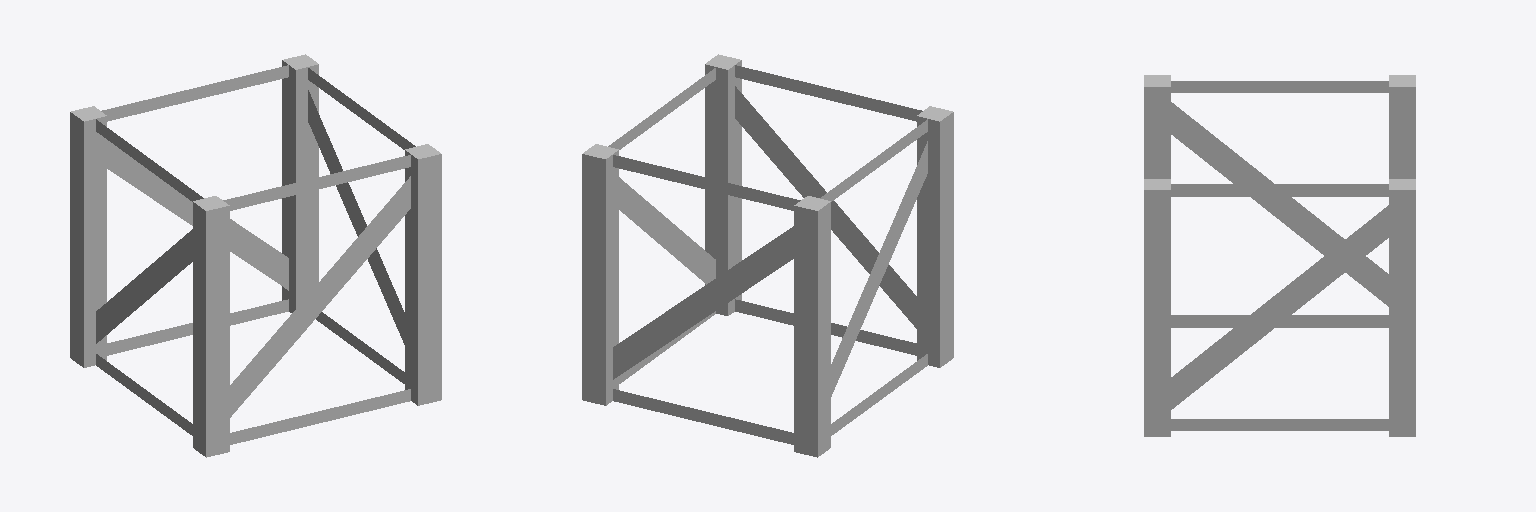
Rendered from structure-cross.obj.
3 renders of one model, left to right at view 1: azimuth 30°, elevation 25°; view 2: azimuth 150°, elevation 25°; view 3: azimuth 270°, elevation 25°, orthographic.
Visible parts, largest first — view 1: structure-cross; view 2: structure-cross; view 3: structure-cross.
Boxes of the visible parts, x1,y1,x2,y2 form: structure-cross: [70, 54, 441, 457]; structure-cross: [582, 54, 953, 457]; structure-cross: [1144, 75, 1415, 436].
Bounding box in the file's own units: 1 × 1 × 1.